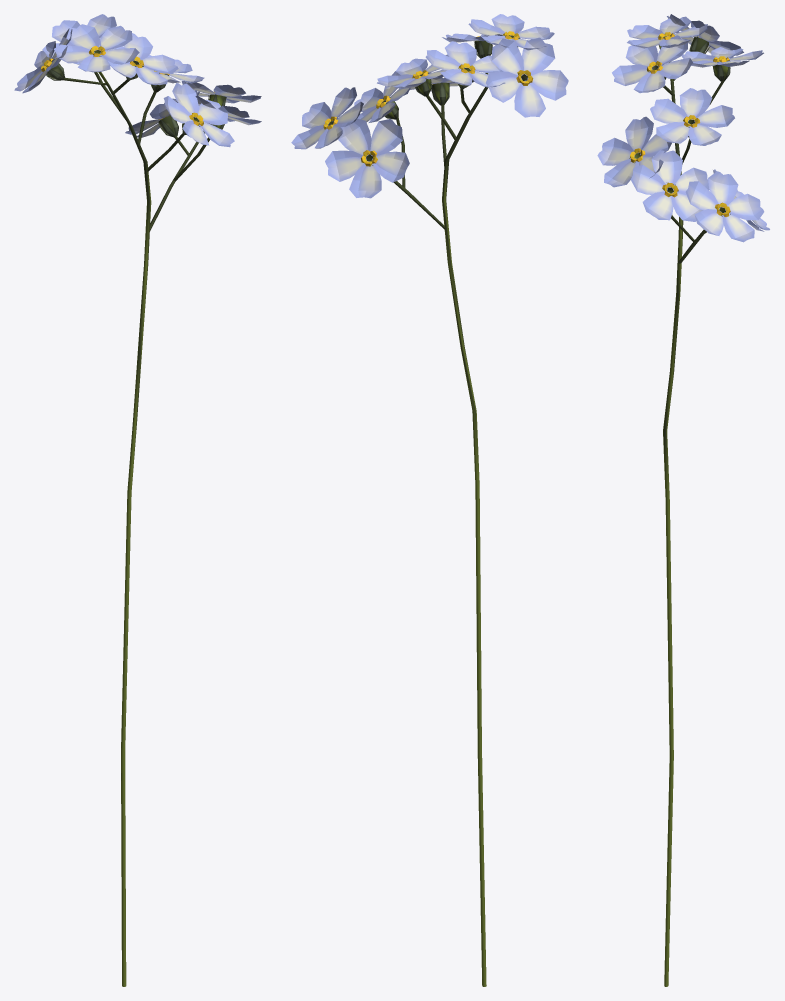
The model's file is flower_04.glb.
The picture shows the model from 3 angles, left to right: view 1: azimuth 30°, elevation 25°; view 2: azimuth 150°, elevation 25°; view 3: azimuth 270°, elevation 25°; orthographic projection. The views are drawn at different scales.
Visible parts, largest first — view 1: stem, petal, petal.139; view 2: stem, petal.171, petal.164, petal.174, petal.163, petal.160, petal.170, petal.172, petal.173, petal.162, petal.161; view 3: stem, petal.178, petal.169, petal.179, petal.168, petal.156, petal.150, petal.155, petal.151, petal.175, petal.165, petal.154 (+12 smaller).
Boxes of the visible parts, x1,y1,x2,y2 form: stem: [93, 50, 151, 986]; petal: [66, 24, 99, 50]; petal.139: [98, 25, 132, 50]; stem: [442, 35, 519, 986]; petal.171: [325, 150, 366, 181]; petal.164: [522, 37, 555, 75]; petal.174: [370, 118, 402, 156]; petal.163: [527, 70, 568, 100]; petal.160: [491, 38, 523, 75]; petal.170: [338, 118, 371, 156]; petal.172: [349, 161, 381, 198]; petal.173: [372, 151, 409, 182]; petal.162: [514, 80, 545, 117]; petal.161: [486, 71, 522, 102]; stem: [658, 36, 683, 986]; petal.178: [651, 150, 682, 187]; petal.169: [708, 171, 738, 207]; petal.179: [631, 164, 667, 194]; petal.168: [725, 193, 764, 220]; petal.156: [597, 137, 635, 165]; petal.150: [679, 88, 712, 119]; petal.155: [625, 116, 653, 153]; petal.151: [650, 98, 688, 123]; petal.175: [642, 191, 673, 220]; petal.165: [685, 181, 719, 210]; petal.154: [694, 105, 734, 127].
Bounding box in the file's own units: 0.0666 × 0.2432 × 0.0402.
